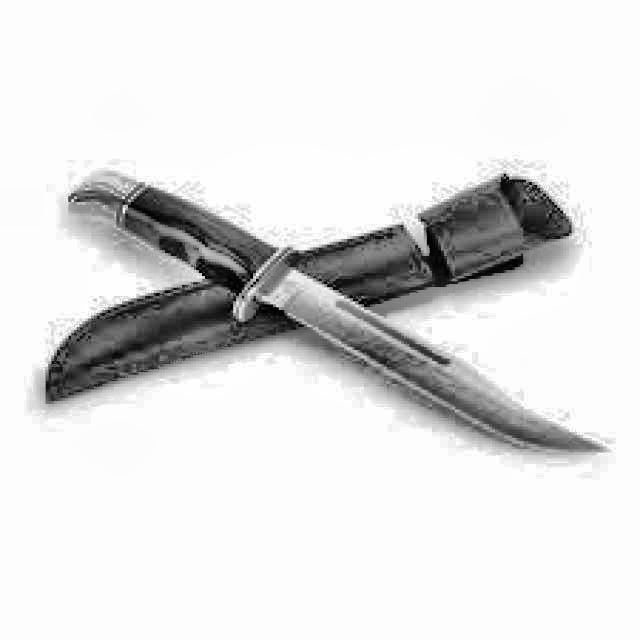knife: (66, 159, 609, 469)
